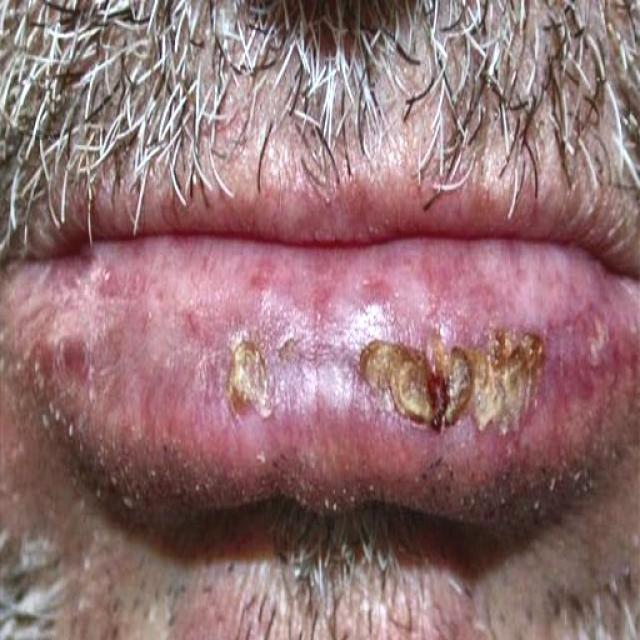cancer-detection: (161, 311, 623, 456)
processing_area: (4, 240, 639, 472)
